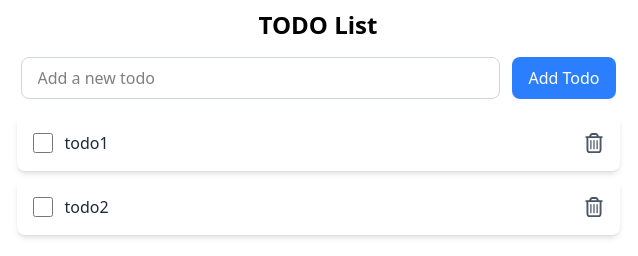
Rendering › delete todo
This screenshot has width=638, height=256.
Click the button without text in the row of "todo1" at (594, 143), box [584,133,604,153]
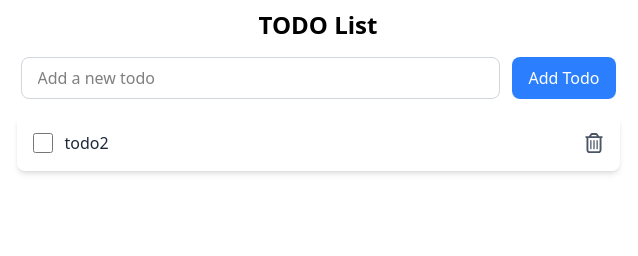
Expected: the list item with test id "li-todo1ID" is gone
